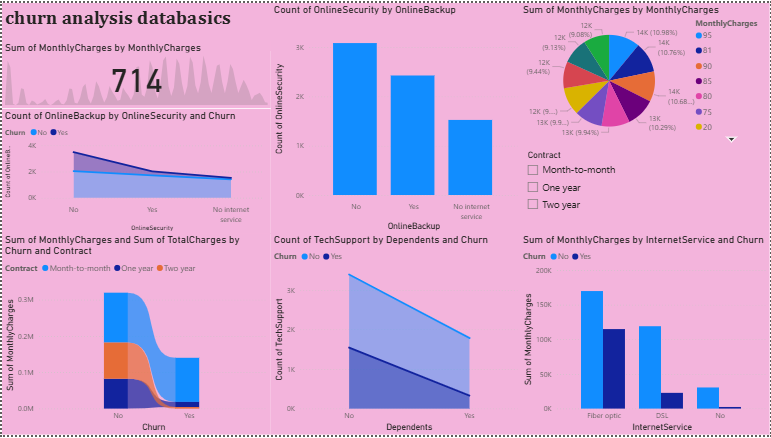

This screenshot's page, from the dashboard's own definition file:
{"tool":"powerbi","page":{"name":"Page 1","canvas":[1280,720],"ordinal":0},"visuals":[{"type":"ribbonChart","fields":{"Category":["WA_Fn-UseC_-Telco-Customer-Churn (1).Churn"],"Y":["Sum(WA_Fn-UseC_-Telco-Customer-Churn (1).MonthlyCharges)"],"Series":["WA_Fn-UseC_-Telco-Customer-Churn (1).Contract"]},"box":[0,384,448,336],"z":0},{"type":"areaChart","fields":{"Category":["WA_Fn-UseC_-Telco-Customer-Churn (1).Dependents"],"Y":["CountNonNull(WA_Fn-UseC_-Telco-Customer-Churn (1).TechSupport)"],"Series":["WA_Fn-UseC_-Telco-Customer-Churn (1).Churn"]},"box":[448,384,416,336],"z":1000},{"type":"pieChart","fields":{"Category":["WA_Fn-UseC_-Telco-Customer-Churn (1).MonthlyCharges"],"Y":["Sum(WA_Fn-UseC_-Telco-Customer-Churn (1).MonthlyCharges)"]},"box":[864,0,416,240],"z":2000},{"type":"textbox","box":[0,0,464,80],"z":3000},{"type":"kpi","fields":{"Indicator":["Sum(WA_Fn-UseC_-Telco-Customer-Churn (1).MonthlyCharges)"],"TrendLine":["WA_Fn-UseC_-Telco-Customer-Churn (1).MonthlyCharges"]},"box":[0,64,448,112],"z":4000},{"type":"stackedAreaChart","fields":{"Category":["WA_Fn-UseC_-Telco-Customer-Churn (1).OnlineSecurity"],"Y":["CountNonNull(WA_Fn-UseC_-Telco-Customer-Churn (1).OnlineBackup)"],"Series":["WA_Fn-UseC_-Telco-Customer-Churn (1).Churn"]},"box":[0,176,448,208],"z":5000},{"type":"lineClusteredColumnComboChart","fields":{"Category":["WA_Fn-UseC_-Telco-Customer-Churn (1).InternetService"],"Series":["WA_Fn-UseC_-Telco-Customer-Churn (1).Churn"],"Y":["Sum(WA_Fn-UseC_-Telco-Customer-Churn (1).MonthlyCharges)"]},"box":[864,384,416,336],"z":6000},{"type":"lineStackedColumnComboChart","fields":{"Category":["WA_Fn-UseC_-Telco-Customer-Churn (1).OnlineBackup"],"Y":["CountNonNull(WA_Fn-UseC_-Telco-Customer-Churn (1).OnlineSecurity)"]},"box":[448,0,416,384],"z":7000},{"type":"slicer","fields":{"Values":["WA_Fn-UseC_-Telco-Customer-Churn (1).Contract"]},"box":[864,240,416,144],"z":8000}]}

Visuals, with their boxes in screenshot pixels (x1, y1, x2, y2), scaled from the page's 1280x720 canvas onto the 771x438 screenshot:
ribbonChart - WA_Fn-UseC_-Telco-Customer-Churn (1).Churn x Sum(WA_Fn-UseC_-Telco-Customer-Churn (1).MonthlyCharges): {"left": 0, "top": 234, "right": 270, "bottom": 437}
areaChart - WA_Fn-UseC_-Telco-Customer-Churn (1).Dependents x CountNonNull(WA_Fn-UseC_-Telco-Customer-Churn (1).TechSupport): {"left": 270, "top": 234, "right": 520, "bottom": 437}
pieChart - WA_Fn-UseC_-Telco-Customer-Churn (1).MonthlyCharges x Sum(WA_Fn-UseC_-Telco-Customer-Churn (1).MonthlyCharges): {"left": 520, "top": 0, "right": 770, "bottom": 146}
textbox: {"left": 0, "top": 0, "right": 279, "bottom": 49}
kpi - Sum(WA_Fn-UseC_-Telco-Customer-Churn (1).MonthlyCharges) x WA_Fn-UseC_-Telco-Customer-Churn (1).MonthlyCharges: {"left": 0, "top": 39, "right": 270, "bottom": 107}
stackedAreaChart - WA_Fn-UseC_-Telco-Customer-Churn (1).OnlineSecurity x CountNonNull(WA_Fn-UseC_-Telco-Customer-Churn (1).OnlineBackup): {"left": 0, "top": 107, "right": 270, "bottom": 234}
lineClusteredColumnComboChart - WA_Fn-UseC_-Telco-Customer-Churn (1).InternetService x WA_Fn-UseC_-Telco-Customer-Churn (1).Churn: {"left": 520, "top": 234, "right": 770, "bottom": 437}
lineStackedColumnComboChart - WA_Fn-UseC_-Telco-Customer-Churn (1).OnlineBackup x CountNonNull(WA_Fn-UseC_-Telco-Customer-Churn (1).OnlineSecurity): {"left": 270, "top": 0, "right": 520, "bottom": 234}
slicer - WA_Fn-UseC_-Telco-Customer-Churn (1).Contract: {"left": 520, "top": 146, "right": 770, "bottom": 234}
